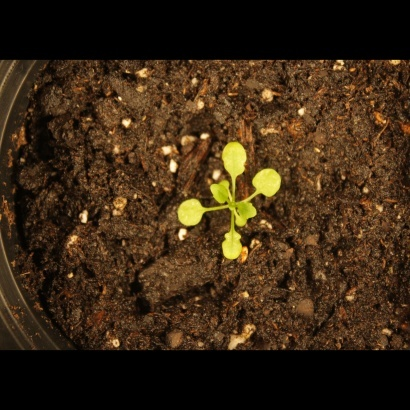leaf: (173, 193, 209, 230), (251, 164, 285, 202), (218, 224, 248, 267), (219, 137, 248, 179), (210, 183, 233, 206), (236, 201, 259, 224)
